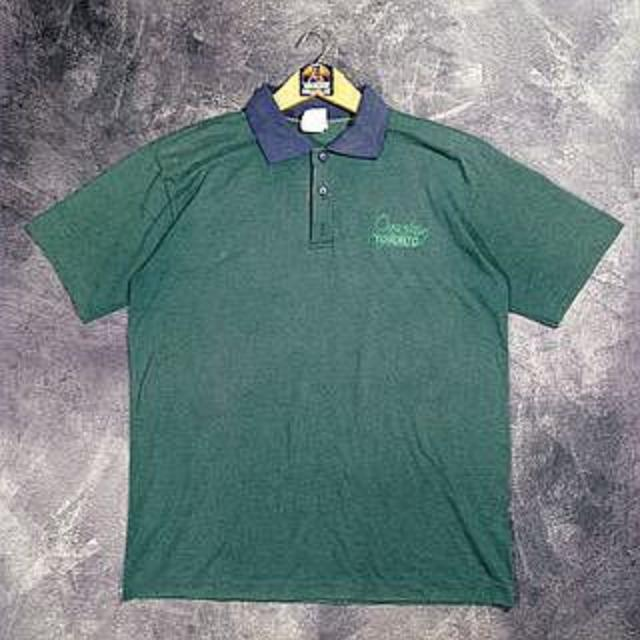T_SHIRT: (5, 70, 637, 620)
